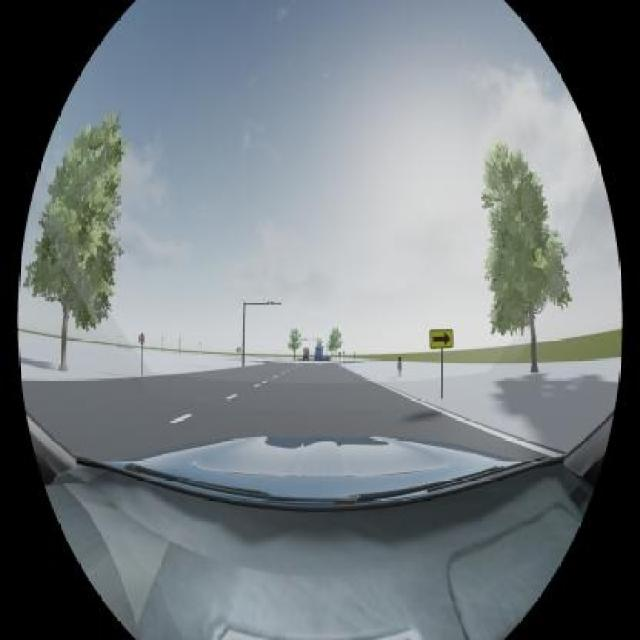forb_speed_over_30: (138, 333, 145, 344)
